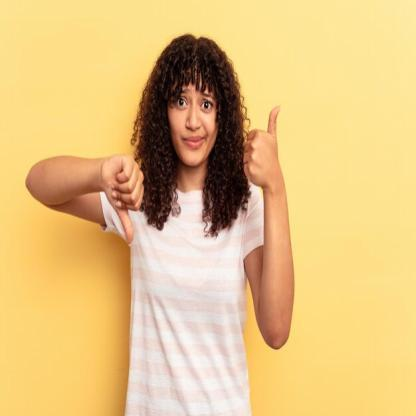thumb_down: (100, 152, 146, 247)
thumb_up: (240, 101, 288, 196)
